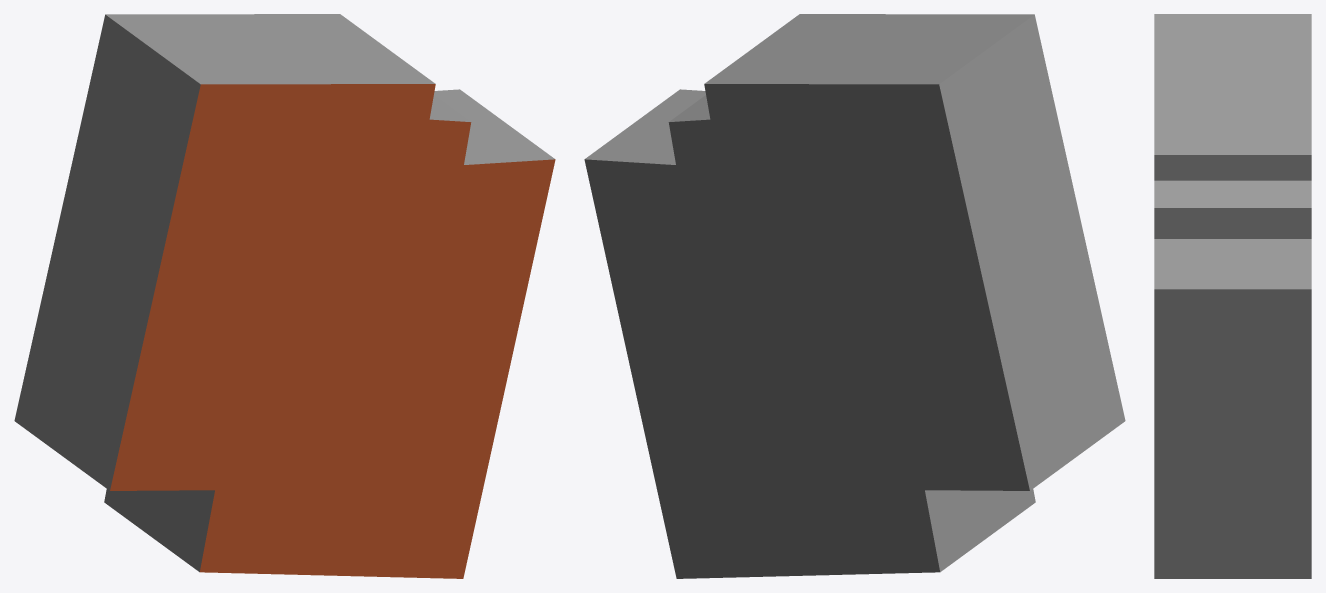
The model's file is construction_3119_assumed_A_Casa_h6m.obj.
3 renders of one model, left to right at view 1: azimuth 30°, elevation 25°; view 2: azimuth 150°, elevation 25°; view 3: azimuth 270°, elevation 25°, orthographic. The views are drawn at different scales.
Visible parts, largest first — view 1: construction_3119_assumed_A_Casa; view 2: construction_3119_assumed_A_Casa; view 3: construction_3119_assumed_A_Casa.
Part boxes in pixels (x1,y1,x2,y2): construction_3119_assumed_A_Casa: (14, 14, 555, 578); construction_3119_assumed_A_Casa: (584, 14, 1125, 578); construction_3119_assumed_A_Casa: (1154, 14, 1311, 578).
Size of the model in its own units: 16.15 by 19.35 by 6.
